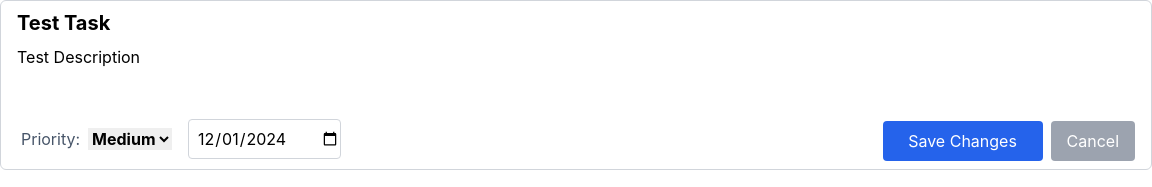
Test: EditTodoItem Component › disables the Save Changes button when the task name is empty
Expected: the button "Save Changes" is enabled, top-left (882, 121), bottom-right (1042, 161)
// Clear the task name
Clear the field with placeholder "Task name" at (576, 23), box top-left (17, 9), bottom-right (1135, 37)
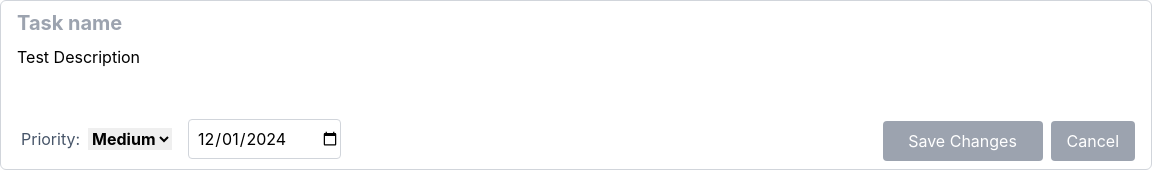
Result: the button "Save Changes" is disabled at top-left (882, 121), bottom-right (1042, 161)
